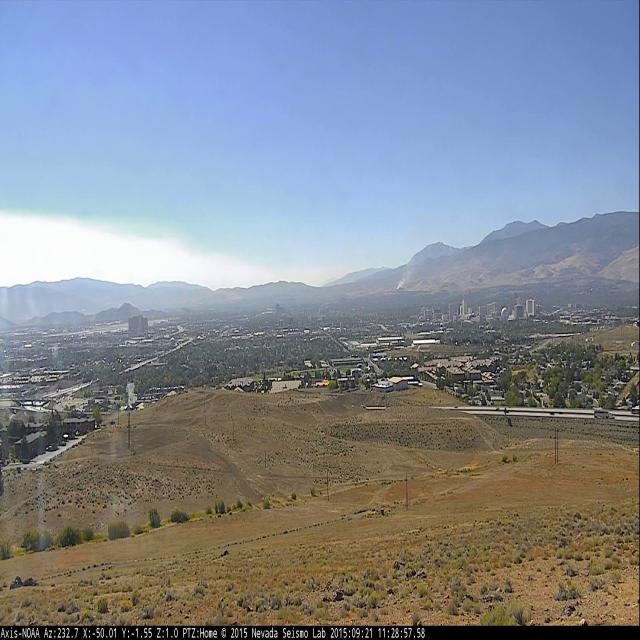smoke: (396, 253, 416, 289)
